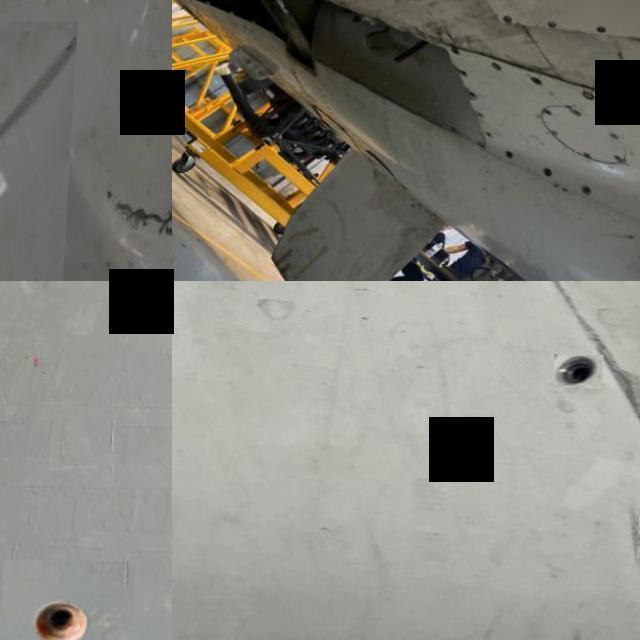Dent: (0, 22, 78, 172)
Missing_Fastener: (3, 559, 141, 640), (556, 354, 608, 388), (550, 17, 564, 30), (596, 24, 616, 33), (546, 167, 560, 177), (508, 148, 520, 159), (505, 13, 519, 22), (536, 76, 548, 85), (587, 184, 597, 194), (456, 46, 466, 54), (466, 68, 474, 77)
